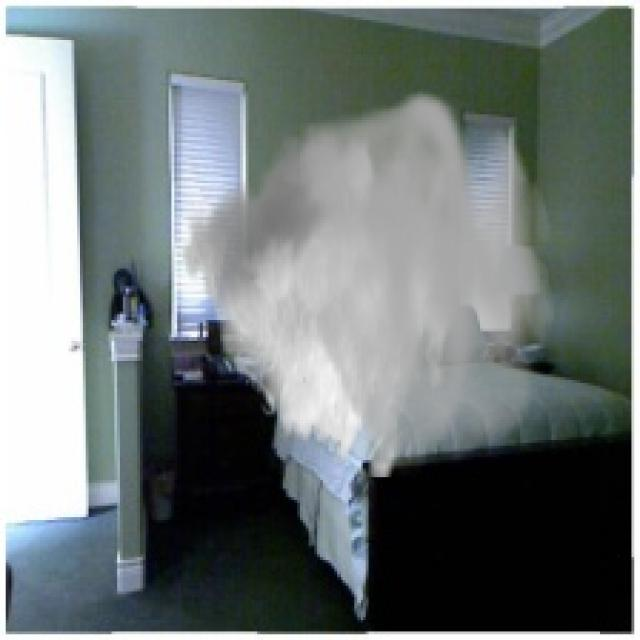smoke: (180, 86, 554, 477)
